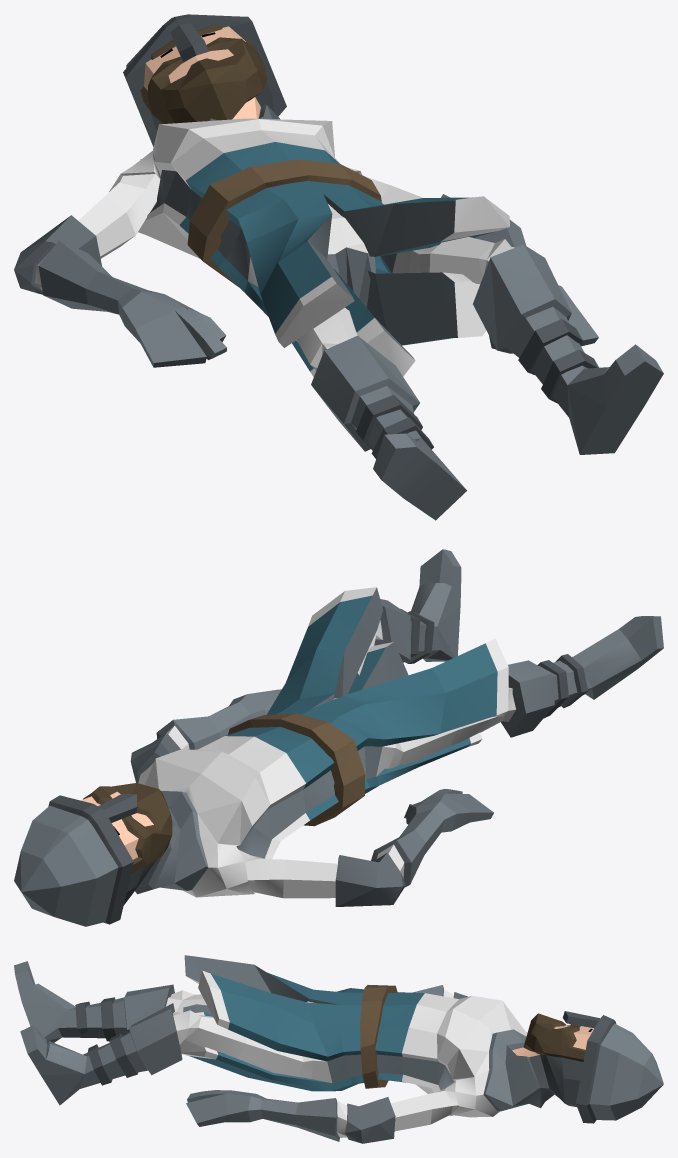
The model's file is SM_Dead_Soldier_01.fbx.
The picture shows the model from 3 angles, top to bottom: view 1: azimuth 30°, elevation 25°; view 2: azimuth 150°, elevation 25°; view 3: azimuth 270°, elevation 25°; orthographic projection. The views are drawn at different scales.
Parts seen in each view (by area): view 1: SM_Dead_Soldier_01; view 2: SM_Dead_Soldier_01; view 3: SM_Dead_Soldier_01.
Part boxes in pixels (bbox=[...]): SM_Dead_Soldier_01: bbox=[14, 14, 663, 520]; SM_Dead_Soldier_01: bbox=[14, 549, 663, 926]; SM_Dead_Soldier_01: bbox=[14, 955, 663, 1143].
Bounding box in the file's own units: 89.47 × 42.87 × 186.
